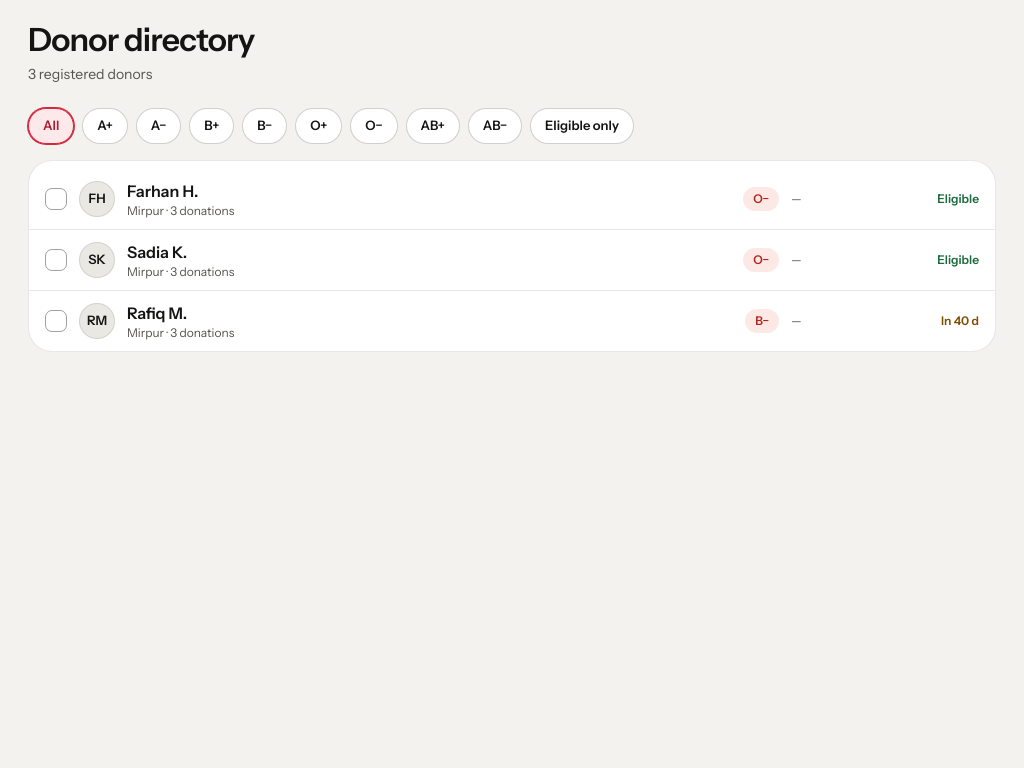
Scenario: donor directory page › messages the selected donors
This screenshot has width=1024, height=768.
Click the checkbox named "Select Farhan H.": [97, 199] box [29,169,995,229]
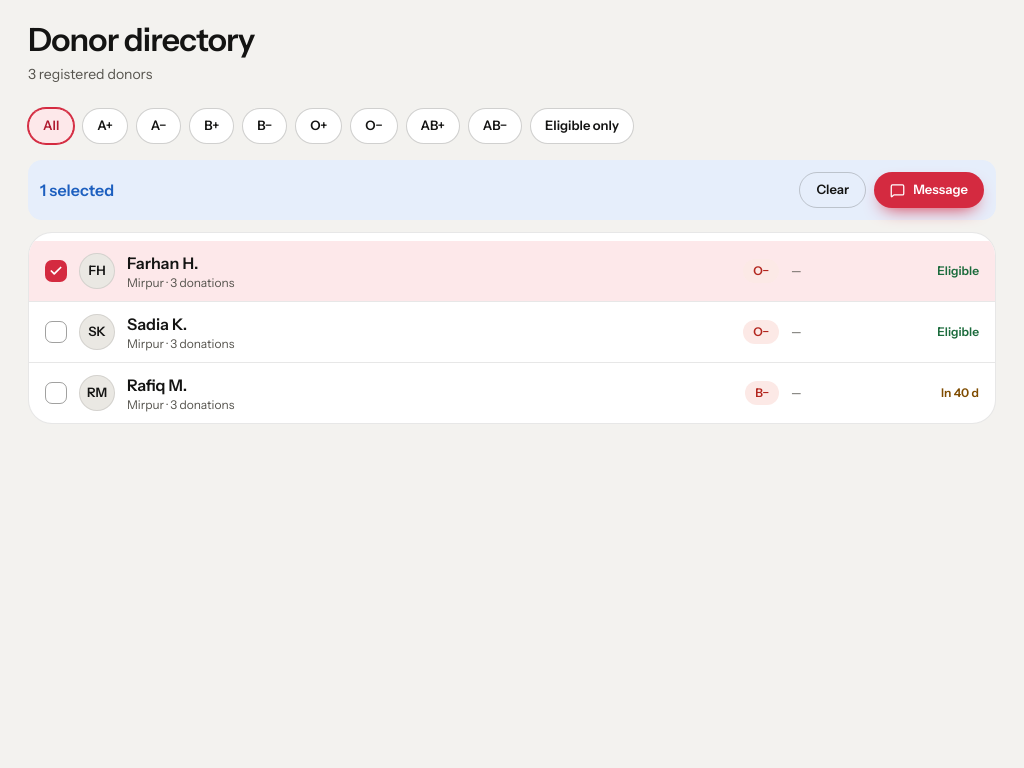
Click the checkbox named "Select Sadia K.": [97, 332] box [29,302,995,362]
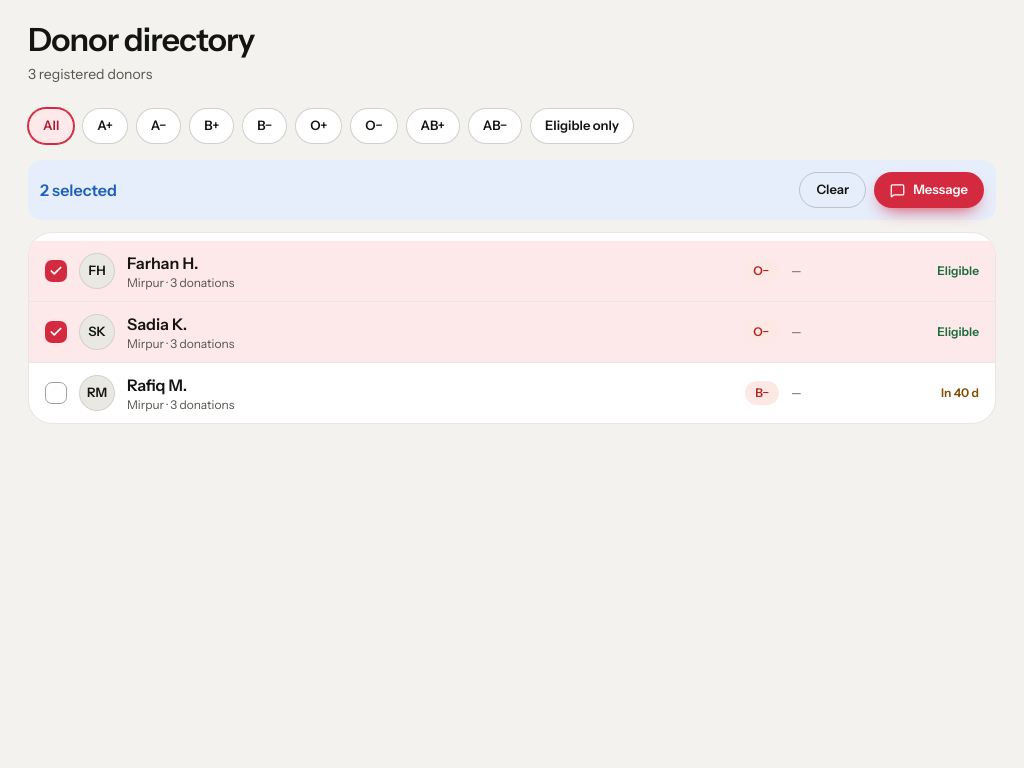
Expected: the text "2 selected" is shown, [40,180,117,200]
Click the button "Message": [929, 190] box [874,172,984,208]
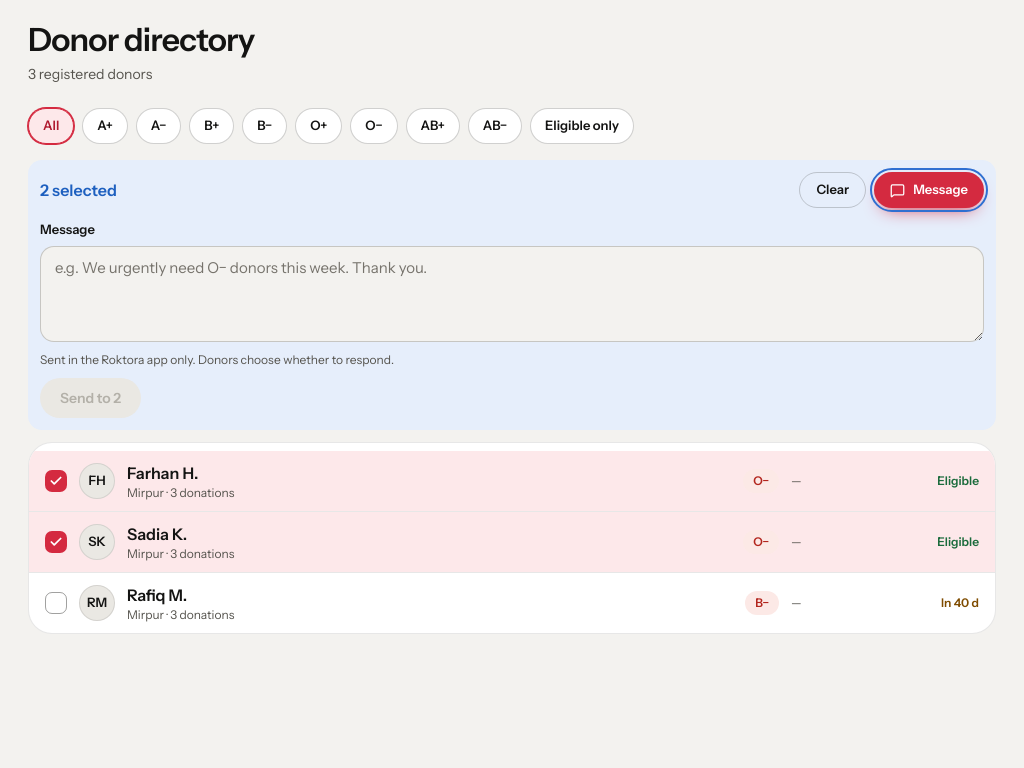
In the text box labelled "Message": [512, 294] box [40,246,984,342], type "We urgently need O− donors this week."
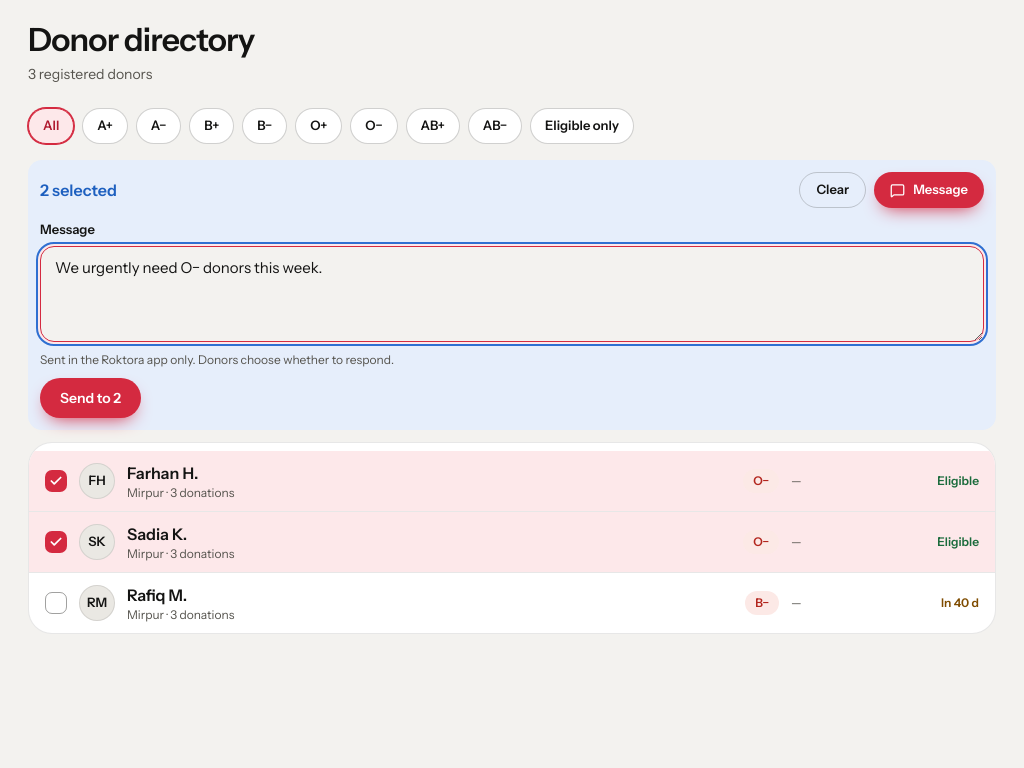
Click the button "Send to 2": [91, 398] box [40,378,141,418]
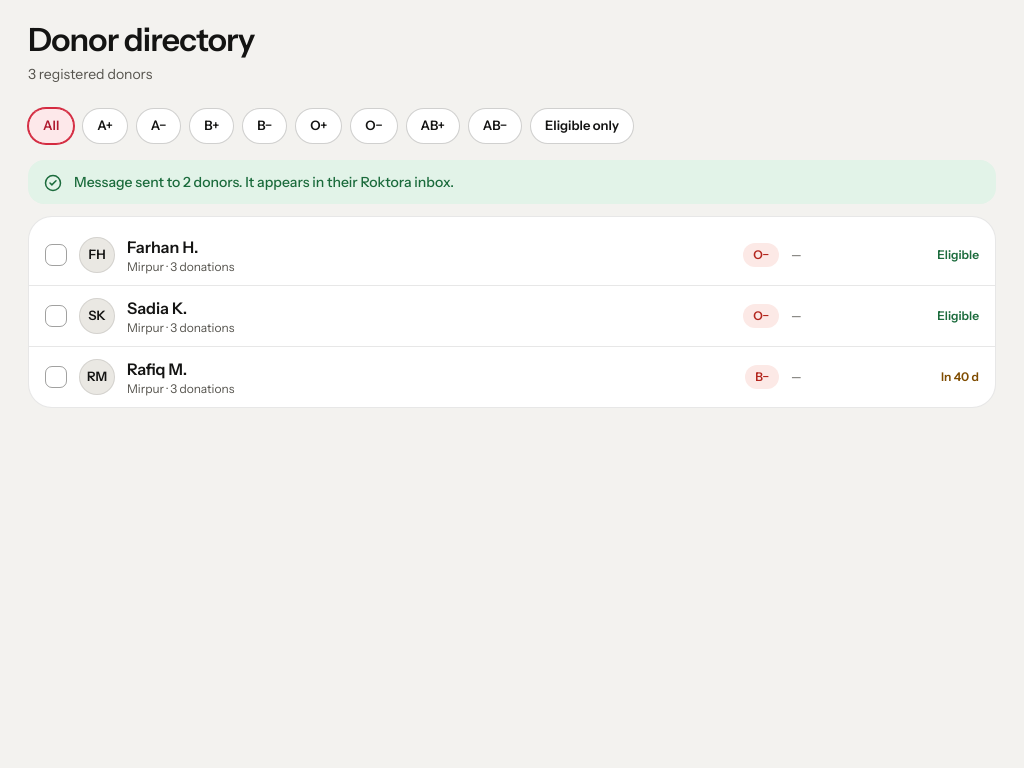
Expected: the text "Message sent to 2 donors. It appears in their Roktora inbox." is shown, [74,173,454,191]
